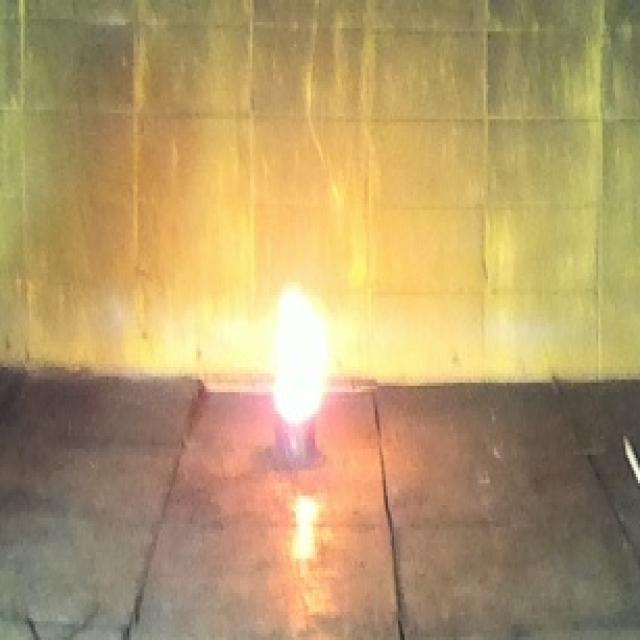Fire: (274, 284, 326, 424)
